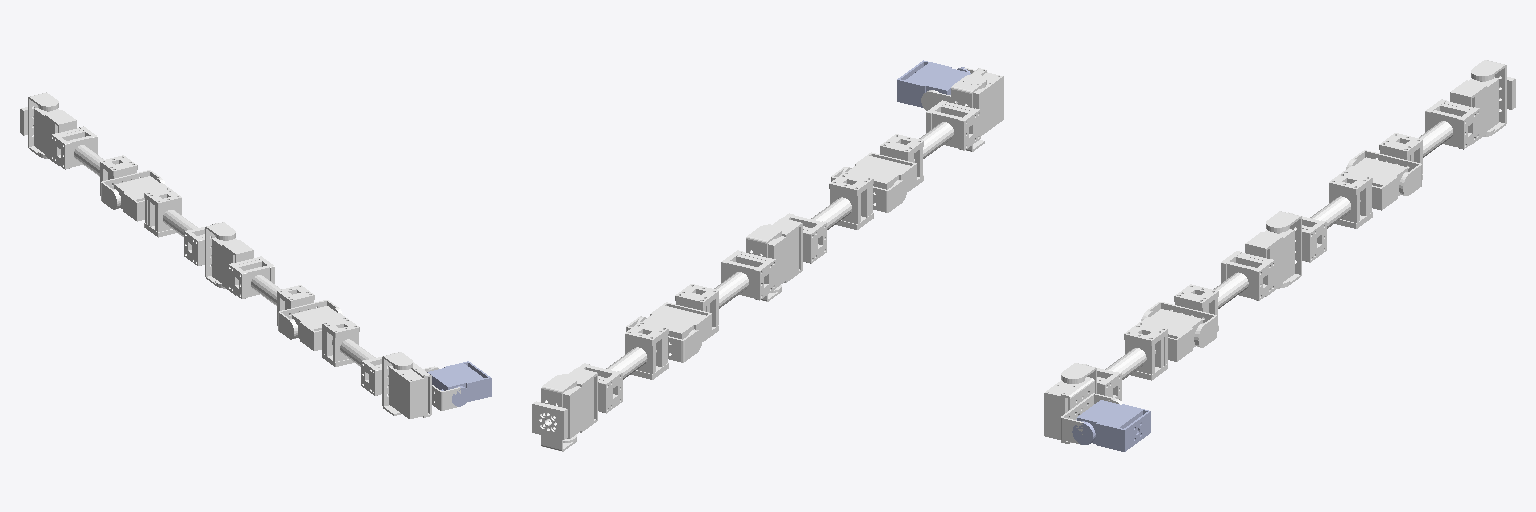
robot.urdf — small:
<robot
  name="small">
  <link
    name="base_link">
    <inertial>
      <origin
        xyz="-0.025478 -0.00093087 3.4694E-18"
        rpy="0 0 0" />
      <mass
        value="0.037622" />
      <inertia
        ixx="7.5722E-06"
        ixy="-4.2642E-07"
        ixz="-2.7489E-22"
        iyy="7.3596E-06"
        iyz="1.7554E-22"
        izz="1.2463E-05" />
    </inertial>
    <visual>
      <origin
        xyz="0 0 0"
        rpy="0 0 0" />
      <geometry>
        <mesh
          filename="package://small/meshes/base_link.STL" />
      </geometry>
      <material
        name="">
        <color
          rgba="0.79608 0.82353 0.93725 1" />
      </material>
    </visual>
    <collision>
      <origin
        xyz="0 0 0"
        rpy="0 0 0" />
      <geometry>
        <mesh
          filename="package://small/meshes/base_link.STL" />
      </geometry>
    </collision>
  </link>
  <link
    name="L1">
    <inertial>
      <origin
        xyz="-0.032799 0.00081265 -0.009994"
        rpy="0 0 0" />
      <mass
        value="0.042933" />
      <inertia
        ixx="1.3922E-05"
        ixy="1.3886E-07"
        ixz="-1.0902E-07"
        iyy="1.2021E-05"
        iyz="3.8331E-07"
        izz="1.0786E-05" />
    </inertial>
    <visual>
      <origin
        xyz="0 0 0"
        rpy="0 0 0" />
      <geometry>
        <mesh
          filename="package://small/meshes/L1.STL" />
      </geometry>
      <material
        name="">
        <color
          rgba="1 1 1 1" />
      </material>
    </visual>
    <collision>
      <origin
        xyz="0 0 0"
        rpy="0 0 0" />
      <geometry>
        <mesh
          filename="package://small/meshes/L1.STL" />
      </geometry>
    </collision>
  </link>
  <joint
    name="J1"
    type="revolute">
    <origin
      xyz="-0.037 0.00075 0"
      rpy="1.5708 1.3966E-14 -1.4673E-28" />
    <parent
      link="base_link" />
    <child
      link="L1" />
    <axis
      xyz="0 0 -1" />
    <limit
      lower="-2.335"
      upper="2.335"
      effort="0"
      velocity="0" />
  </joint>
  <link
    name="L2">
    <inertial>
      <origin
        xyz="-0.11134 -0.00048325 -0.00033186"
        rpy="0 0 0" />
      <mass
        value="0.080919" />
      <inertia
        ixx="1.7184E-05"
        ixy="-2.2608E-06"
        ixz="3.0391E-06"
        iyy="0.00025579"
        iyz="1.2977E-08"
        izz="0.0002587" />
    </inertial>
    <visual>
      <origin
        xyz="0 0 0"
        rpy="0 0 0" />
      <geometry>
        <mesh
          filename="package://small/meshes/L2.STL" />
      </geometry>
      <material
        name="">
        <color
          rgba="1 1 1 1" />
      </material>
    </visual>
    <collision>
      <origin
        xyz="0 0 0"
        rpy="0 0 0" />
      <geometry>
        <mesh
          filename="package://small/meshes/L2.STL" />
      </geometry>
    </collision>
  </link>
  <joint
    name="J2"
    type="revolute">
    <origin
      xyz="-0.03675 -0.00085 -0.02025"
      rpy="1.5708 -1.5708 0" />
    <parent
      link="L1" />
    <child
      link="L2" />
    <axis
      xyz="0 0 -1" />
    <limit
      lower="-2.335"
      upper="2.335"
      effort="0"
      velocity="0" />
  </joint>
  <link
    name="L3">
    <inertial>
      <origin
        xyz="-0.11134 0.00048325 -0.00033186"
        rpy="0 0 0" />
      <mass
        value="0.080919" />
      <inertia
        ixx="1.7184E-05"
        ixy="2.2608E-06"
        ixz="3.0391E-06"
        iyy="0.00025579"
        iyz="-1.2977E-08"
        izz="0.0002587" />
    </inertial>
    <visual>
      <origin
        xyz="0 0 0"
        rpy="0 0 0" />
      <geometry>
        <mesh
          filename="package://small/meshes/L3.STL" />
      </geometry>
      <material
        name="">
        <color
          rgba="1 1 1 1" />
      </material>
    </visual>
    <collision>
      <origin
        xyz="0 0 0"
        rpy="0 0 0" />
      <geometry>
        <mesh
          filename="package://small/meshes/L3.STL" />
      </geometry>
    </collision>
  </link>
  <joint
    name="J3"
    type="revolute">
    <origin
      xyz="-0.17 0.00075 0"
      rpy="1.5708 1.0122E-14 -3.5614E-15" />
    <parent
      link="L2" />
    <child
      link="L3" />
    <axis
      xyz="0 0 1" />
    <limit
      lower="-2.335"
      upper="2.335"
      effort="0"
      velocity="0" />
  </joint>
  <link
    name="L4">
    <inertial>
      <origin
        xyz="-0.11134 -0.00048325 -0.00033186"
        rpy="0 0 0" />
      <mass
        value="0.080919" />
      <inertia
        ixx="1.7184E-05"
        ixy="-2.2608E-06"
        ixz="3.0391E-06"
        iyy="0.00025579"
        iyz="1.2977E-08"
        izz="0.0002587" />
    </inertial>
    <visual>
      <origin
        xyz="0 0 0"
        rpy="0 0 0" />
      <geometry>
        <mesh
          filename="package://small/meshes/L4.STL" />
      </geometry>
      <material
        name="">
        <color
          rgba="1 1 1 1" />
      </material>
    </visual>
    <collision>
      <origin
        xyz="0 0 0"
        rpy="0 0 0" />
      <geometry>
        <mesh
          filename="package://small/meshes/L4.STL" />
      </geometry>
    </collision>
  </link>
  <joint
    name="J4"
    type="revolute">
    <origin
      xyz="-0.17 -0.00075 0"
      rpy="-1.5708 -3.5963E-15 1.0827E-14" />
    <parent
      link="L3" />
    <child
      link="L4" />
    <axis
      xyz="0 0 -1" />
    <limit
      lower="-2.335"
      upper="2.335"
      effort="0"
      velocity="0" />
  </joint>
  <link
    name="L5">
    <inertial>
      <origin
        xyz="-0.11134 0.00048325 -0.00033186"
        rpy="0 0 0" />
      <mass
        value="0.080919" />
      <inertia
        ixx="1.7184E-05"
        ixy="2.2608E-06"
        ixz="3.0391E-06"
        iyy="0.00025579"
        iyz="-1.2977E-08"
        izz="0.0002587" />
    </inertial>
    <visual>
      <origin
        xyz="0 0 0"
        rpy="0 0 0" />
      <geometry>
        <mesh
          filename="package://small/meshes/L5.STL" />
      </geometry>
      <material
        name="">
        <color
          rgba="1 1 1 1" />
      </material>
    </visual>
    <collision>
      <origin
        xyz="0 0 0"
        rpy="0 0 0" />
      <geometry>
        <mesh
          filename="package://small/meshes/L5.STL" />
      </geometry>
    </collision>
  </link>
  <joint
    name="J5"
    type="revolute">
    <origin
      xyz="-0.17 0.00075 0"
      rpy="1.5708 6.8656E-15 3.4565E-15" />
    <parent
      link="L4" />
    <child
      link="L5" />
    <axis
      xyz="0 0 1" />
    <limit
      lower="-2.335"
      upper="2.335"
      effort="0"
      velocity="0" />
  </joint>
  <link
    name="L6">
    <inertial>
      <origin
        xyz="0.018451 1.138E-15 -0.0029725"
        rpy="0 0 0" />
      <mass
        value="0.0093005" />
      <inertia
        ixx="3.1328E-06"
        ixy="-6.0208E-20"
        ixz="-5.4577E-07"
        iyy="3.4321E-06"
        iyz="-3.0391E-20"
        izz="1.3854E-06" />
    </inertial>
    <visual>
      <origin
        xyz="0 0 0"
        rpy="0 0 0" />
      <geometry>
        <mesh
          filename="package://small/meshes/L6.STL" />
      </geometry>
      <material
        name="">
        <color
          rgba="1 1 1 1" />
      </material>
    </visual>
    <collision>
      <origin
        xyz="0 0 0"
        rpy="0 0 0" />
      <geometry>
        <mesh
          filename="package://small/meshes/L6.STL" />
      </geometry>
    </collision>
  </link>
  <joint
    name="J6"
    type="revolute">
    <origin
      xyz="-0.17 -0.00065 0"
      rpy="1.5708 6.983E-15 -3.1416" />
    <parent
      link="L5" />
    <child
      link="L6" />
    <axis
      xyz="0 0 -1" />
    <limit
      lower="-2.335"
      upper="2.335"
      effort="0"
      velocity="0" />
  </joint>
</robot>

--- Render facts (derived) ---
3 views of the same robot in one strip: view 1: azimuth 30°, elevation 25°; view 2: azimuth 150°, elevation 25°; view 3: azimuth 330°, elevation 25° (orthographic).
Robot: small — 7 links, 6 joints (6 revolute); root link base_link; default pose: every joint at zero.
Visible links, largest first — view 1: L5, L4, L3, L2, L1, base_link, L6; view 2: L5, L3, L4, L2, L6, L1, base_link; view 3: L4, L3, L5, L2, base_link, L1, L6.
Link boxes in pixels (left/top/right/bottom): L5: left=34, top=108, right=160, bottom=209; L4: left=114, top=176, right=235, bottom=285; L3: left=212, top=237, right=338, bottom=339; L2: left=292, top=306, right=412, bottom=415; L1: left=389, top=357, right=460, bottom=418; base_link: left=427, top=361, right=491, bottom=406; L6: left=20, top=92, right=58, bottom=156; L5: left=557, top=317, right=702, bottom=442; L3: left=761, top=167, right=907, bottom=292; L4: left=637, top=224, right=781, bottom=343; L2: left=842, top=78, right=986, bottom=193; L6: left=532, top=374, right=576, bottom=451; L1: left=921, top=68, right=1003, bottom=135; base_link: left=897, top=60, right=970, bottom=107; L4: left=1266, top=157, right=1414, bottom=284; L3: left=1141, top=229, right=1294, bottom=345; L5: left=1346, top=77, right=1498, bottom=194; L2: left=1061, top=309, right=1209, bottom=400; base_link: left=1072, top=400, right=1150, bottom=451; L1: left=1044, top=369, right=1123, bottom=444; L6: left=1471, top=60, right=1515, bottom=133.
Size in the robot's own frame: 0.1029 by 0.756 by 0.057 metres.
7 mesh visuals loaded from 7 distinct referenced files (7 binary STL).